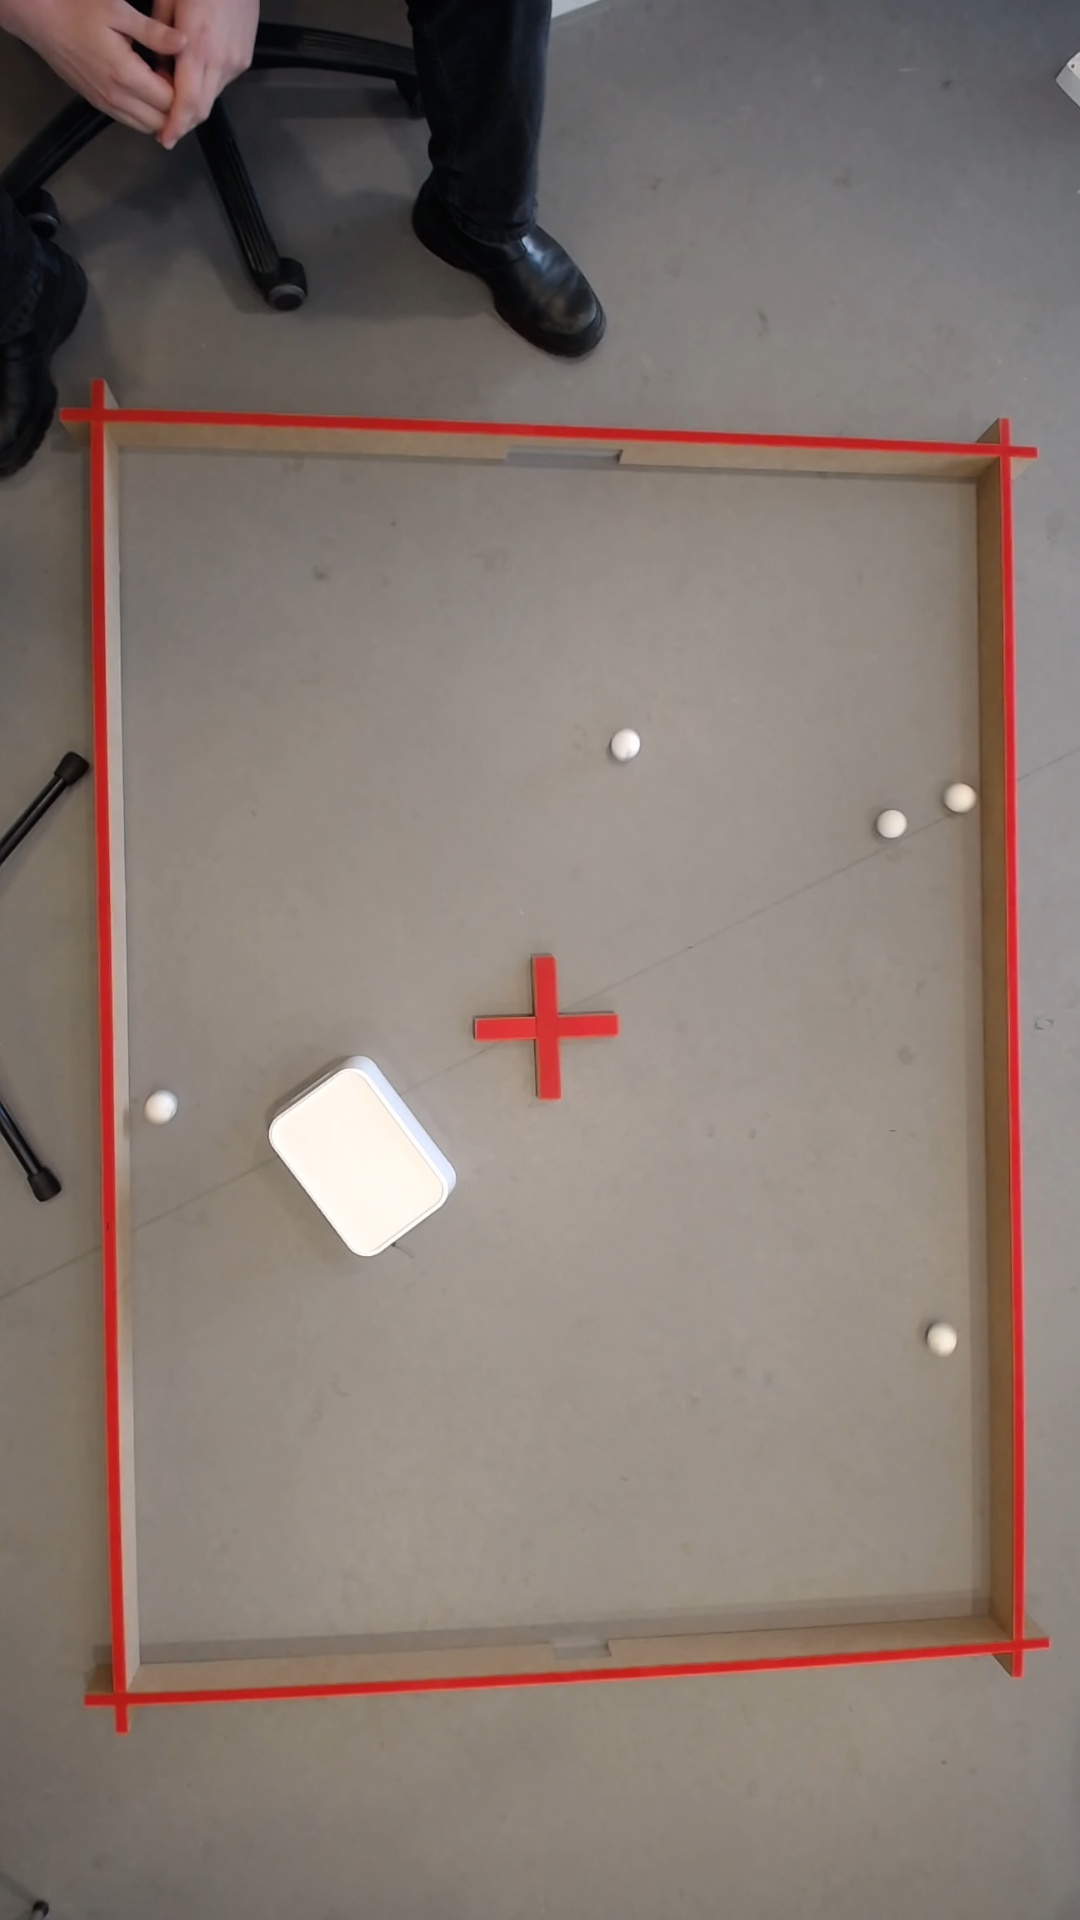balls: (258, 1048, 467, 1265), (609, 725, 645, 761), (144, 1088, 179, 1124), (928, 1323, 959, 1354), (885, 811, 905, 836)
car: (947, 781, 976, 811)
